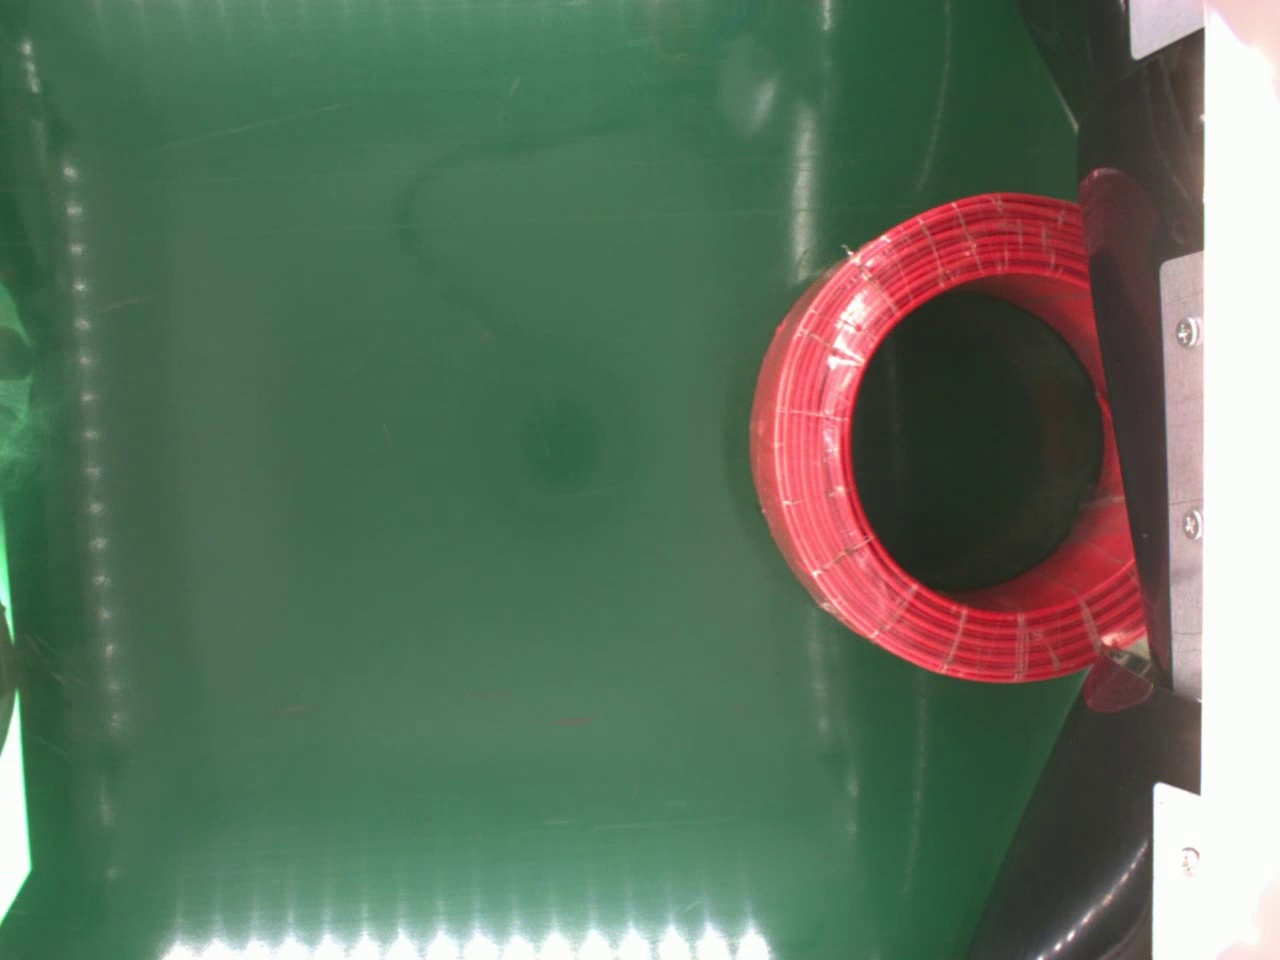red: (745, 191, 1148, 683)
